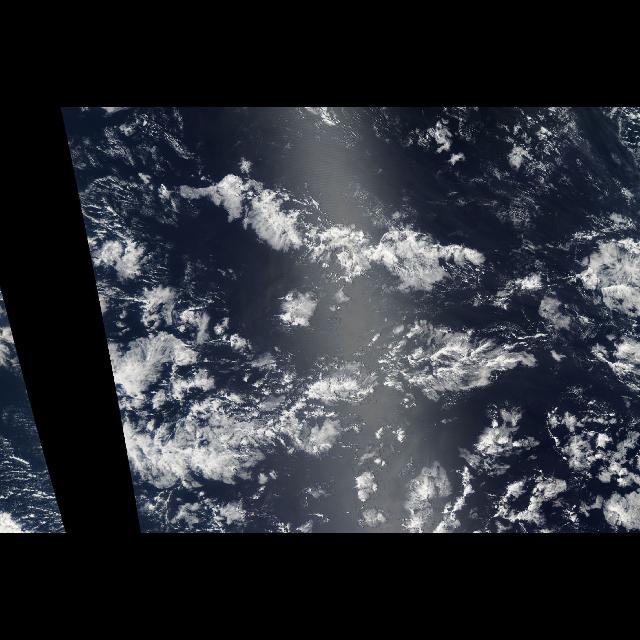Fish: (106, 314, 524, 480), (152, 155, 504, 297)
